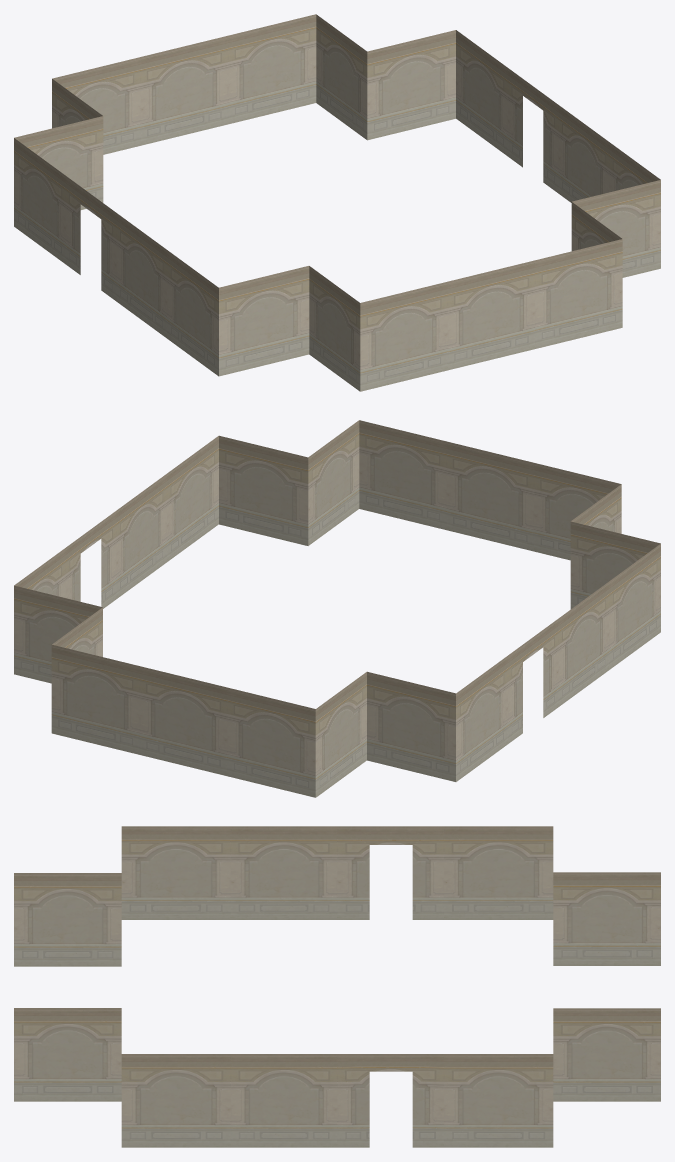
The model's file is Homeworld_Interior_Fd_Room_D_Filling_01_Vo.fbx.
3 views of the same model, one above another, from view 1: azimuth 30°, elevation 25°; view 2: azimuth 150°, elevation 25°; view 3: azimuth 270°, elevation 25° (orthographic). The views are drawn at different scales.
Parts seen in each view (by area): view 1: Homeworld_Interior_Fd_Room_D_Filling_01_Vo; view 2: Homeworld_Interior_Fd_Room_D_Filling_01_Vo; view 3: Homeworld_Interior_Fd_Room_D_Filling_01_Vo.
Part boxes in pixels (x1=…): Homeworld_Interior_Fd_Room_D_Filling_01_Vo: x1=14, y1=14, x2=660, y2=391; Homeworld_Interior_Fd_Room_D_Filling_01_Vo: x1=14, y1=420, x2=660, y2=797; Homeworld_Interior_Fd_Room_D_Filling_01_Vo: x1=14, y1=826, x2=660, y2=1147.
Size of the model in its own units: 25 by 4.8 by 30.06.
